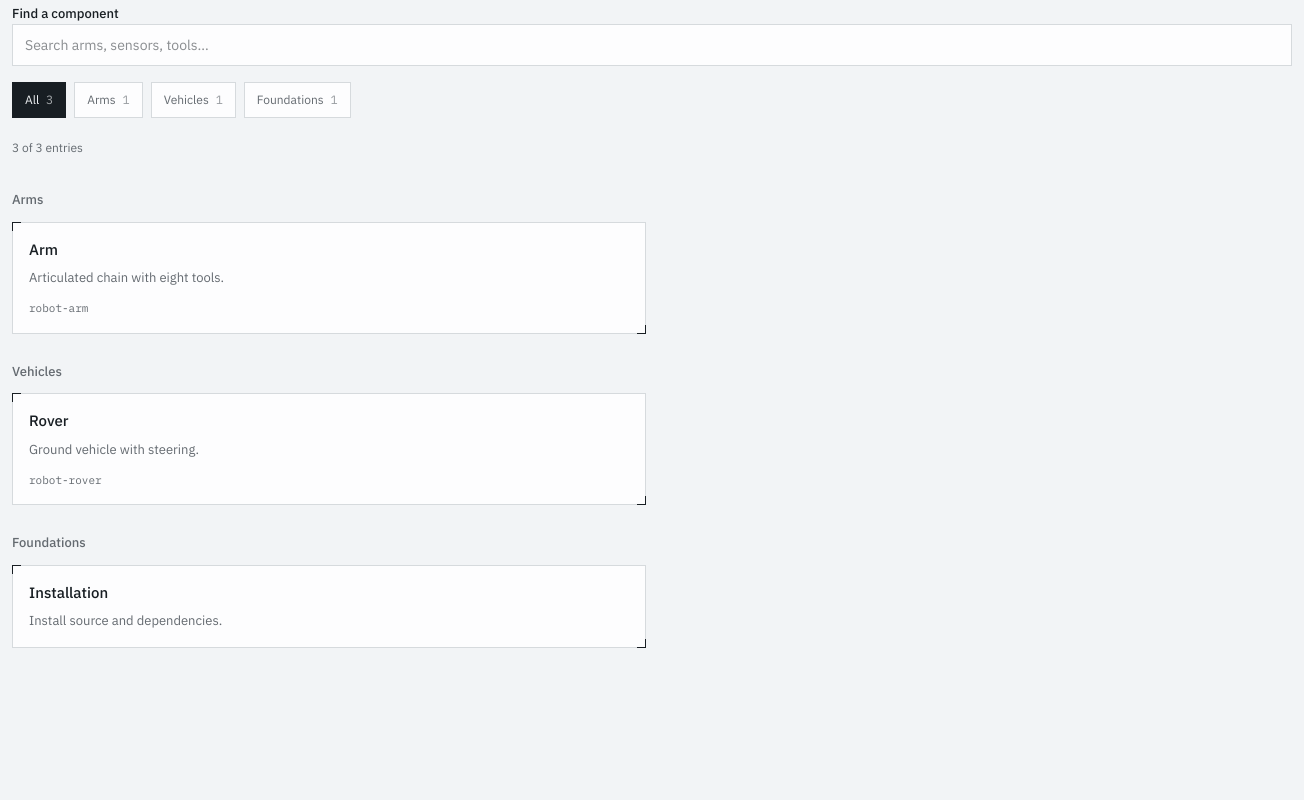
docs catalogue › combines category and search, then clears both from an empty result
Click the button "Arms 1": point(108, 100) top-left (74, 82), bottom-right (143, 118)
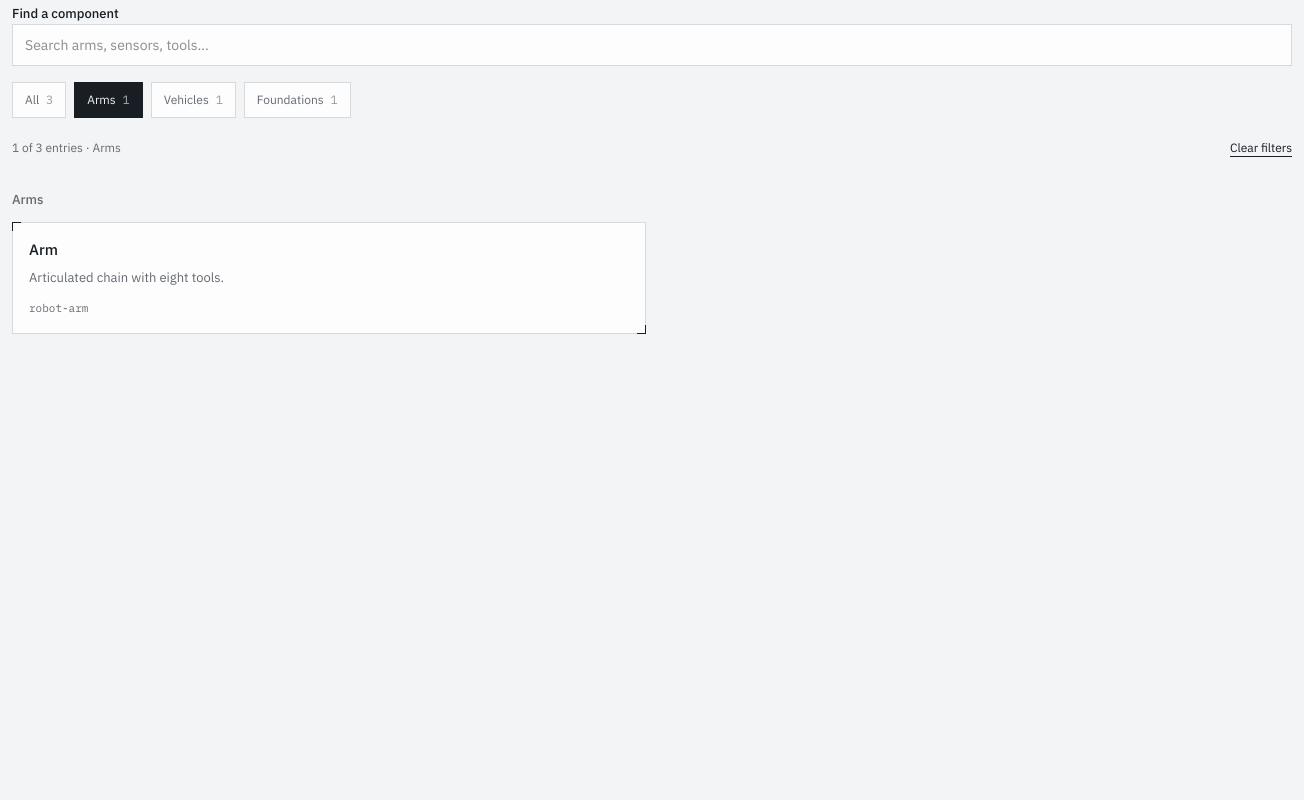
In the search field: point(652, 45) top-left (12, 24), bottom-right (1292, 66), type "rover"
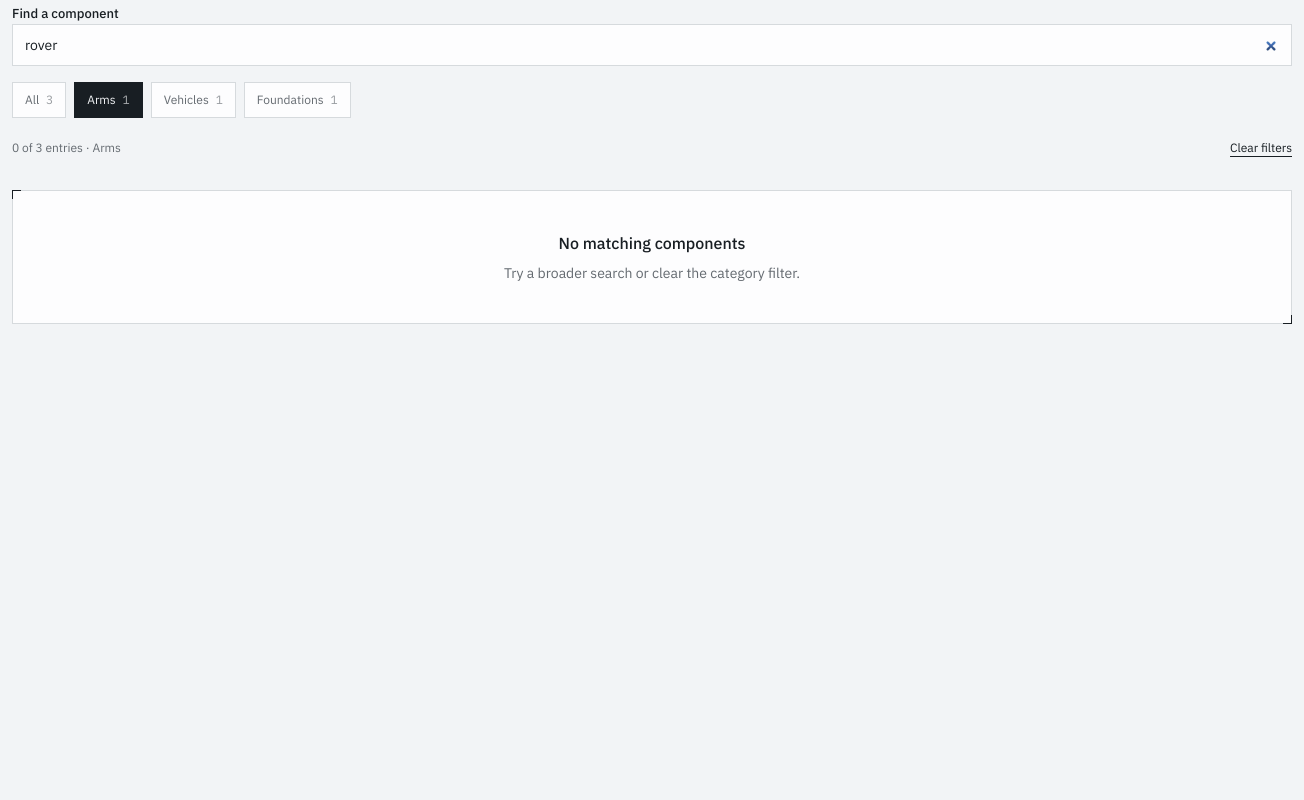
Result: the message shows "0" at top-left (12, 140), bottom-right (19, 155)
Click the button "Clear filters": point(1261, 148) top-left (1230, 139), bottom-right (1292, 157)
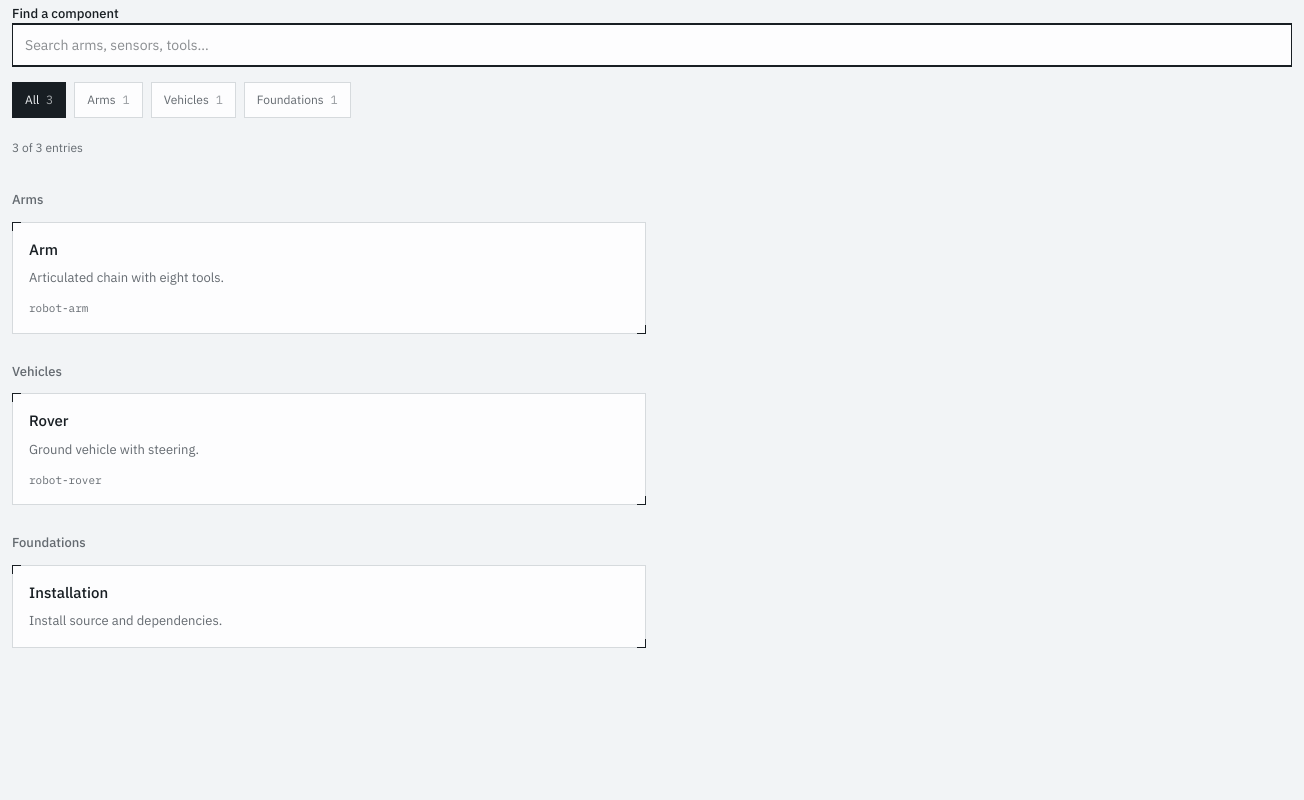
Result: the search field is empty at top-left (12, 24), bottom-right (1292, 66)
Result: the link "Rover Ground vehicle with steering. robot-rover" is shown at top-left (12, 393), bottom-right (646, 505)
Result: the link "Installation Install source and dependencies." is shown at top-left (12, 565), bottom-right (646, 648)
